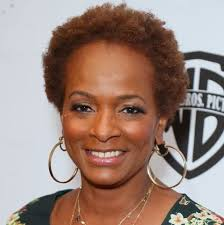person: (39, 4, 178, 188)
